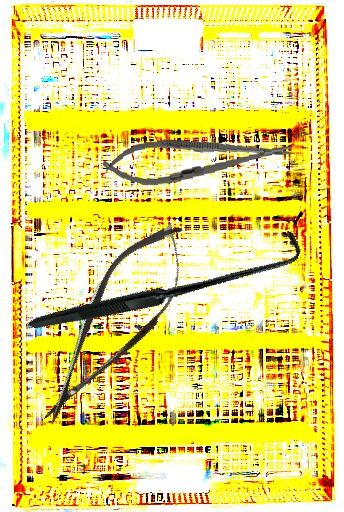Hook Surgical: (27, 146, 307, 418)
Micro Scissor: (17, 206, 211, 443)
Needle Holder: (101, 127, 294, 192)
